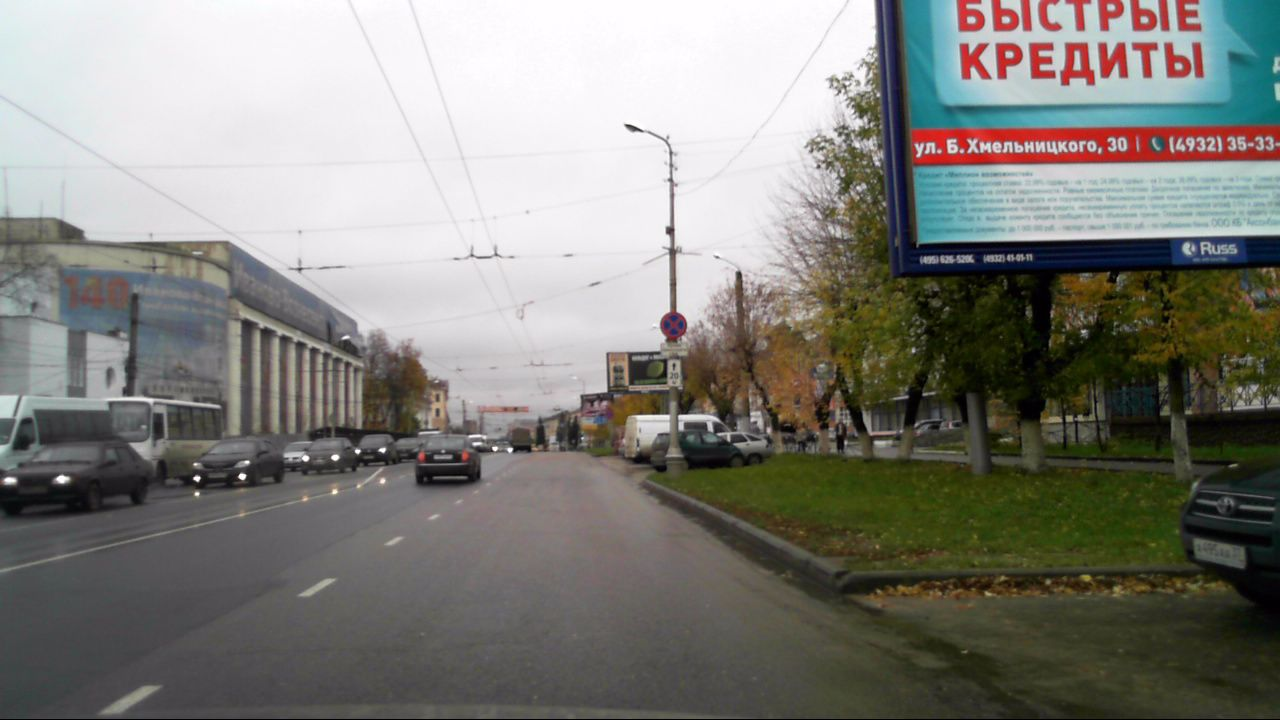No Parking: (659, 311, 687, 338)
